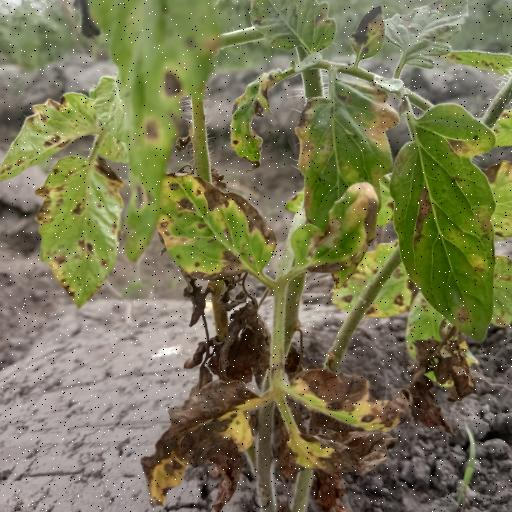Tomato_Brown_Spots: (0, 68, 150, 306), (390, 102, 501, 348), (296, 70, 397, 276), (158, 163, 280, 289)
